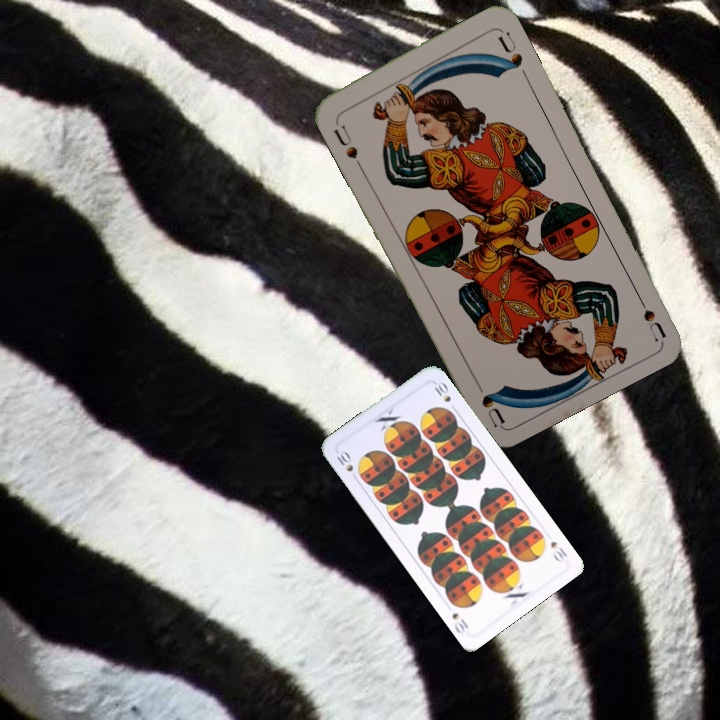S10: (332, 446, 361, 483), (546, 537, 570, 565)
SU: (630, 285, 668, 342), (329, 113, 364, 170)
